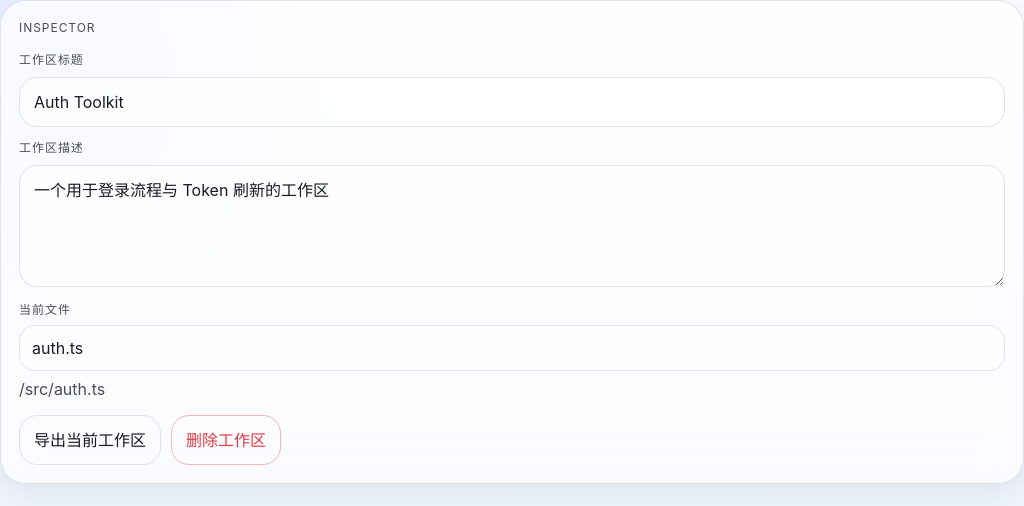
Scenario: InspectorPanel › renames the current file from inspector controls
Replace the text in the 2nd field with "session.ts" at (512, 348), box [19,325,1005,371]
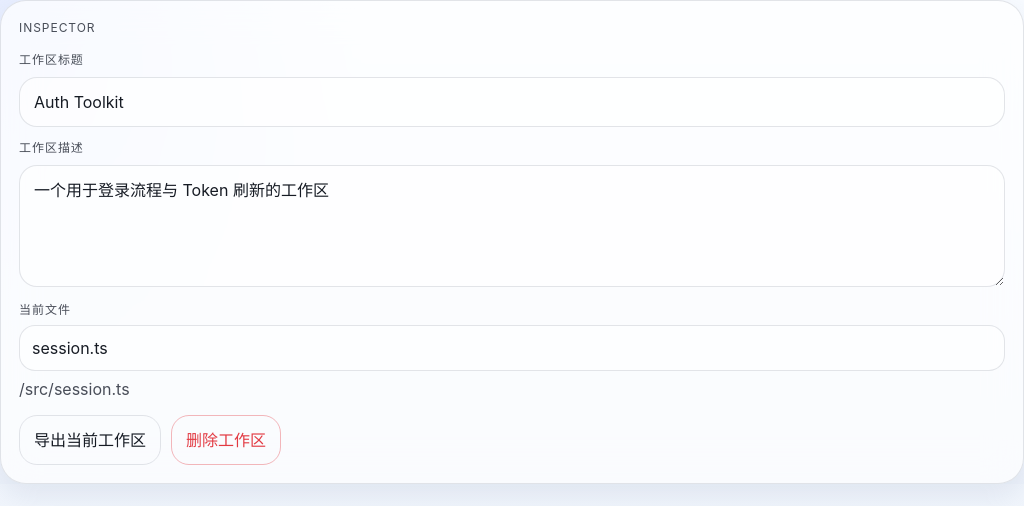
expect the text "/src/session.ts" is shown: met, box [19,379,130,399]
